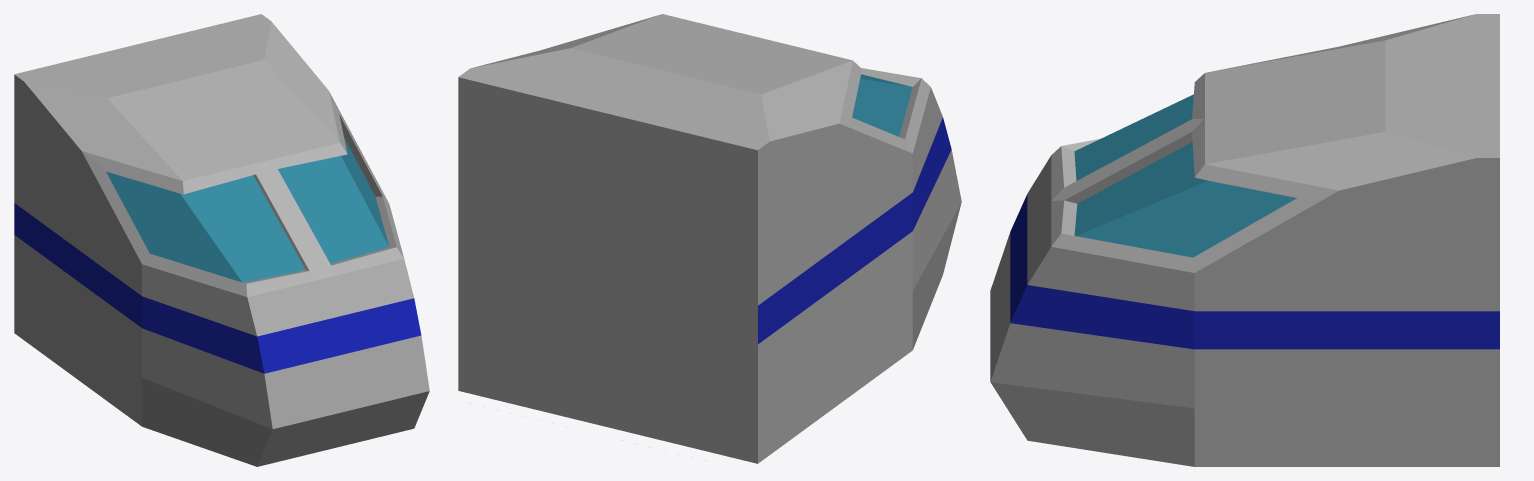
Rendered from new train(head-portion).fbx.
The picture shows the model from 3 angles, left to right: view 1: azimuth 30°, elevation 25°; view 2: azimuth 150°, elevation 25°; view 3: azimuth 270°, elevation 25°; orthographic projection. The views are drawn at different scales.
Parts seen in each view (by area): view 1: Cube; view 2: Cube; view 3: Cube.
Part boxes in pixels (<box>): Cube: <box>14,14,429,466</box>; Cube: <box>458,14,961,463</box>; Cube: <box>990,14,1499,466</box>.
Bounding box in the file's own units: 200 × 200 × 310.
